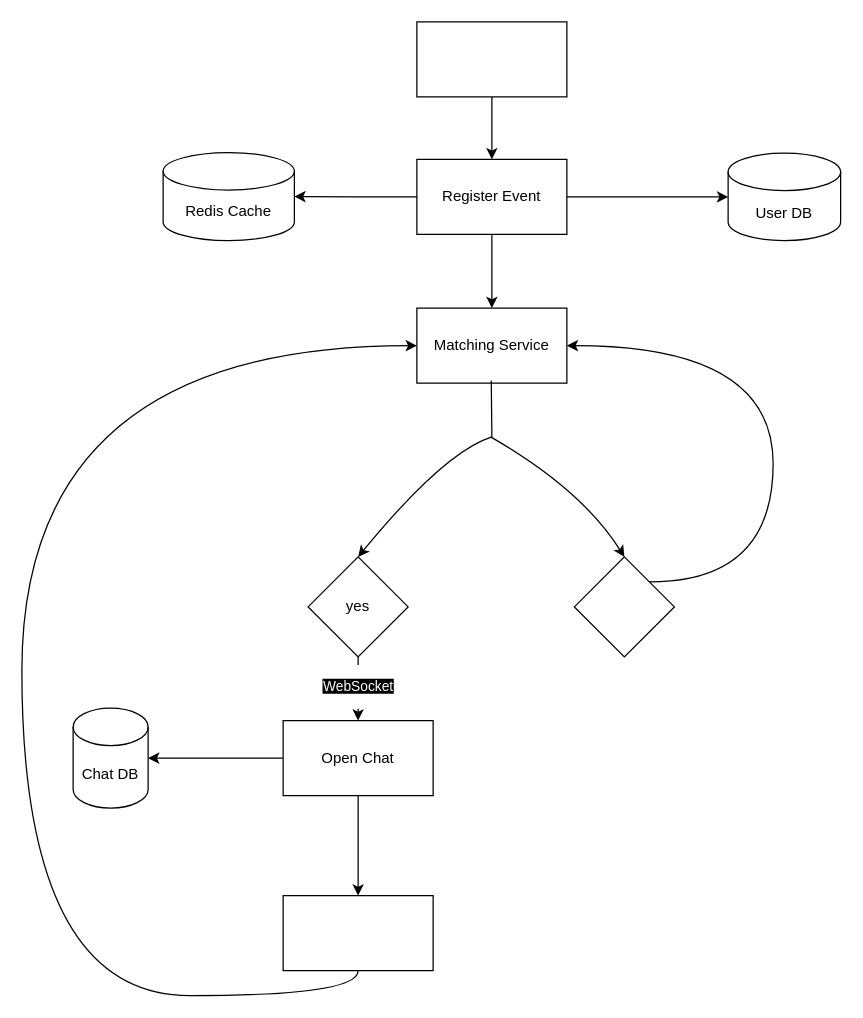
This 863x1018 diagram has some shape labels left out. Each missing label, with the centre of its shape:
"Close Chat" goes at (357,932).
"no" goes at (623,606).
"User" goes at (491,59).
